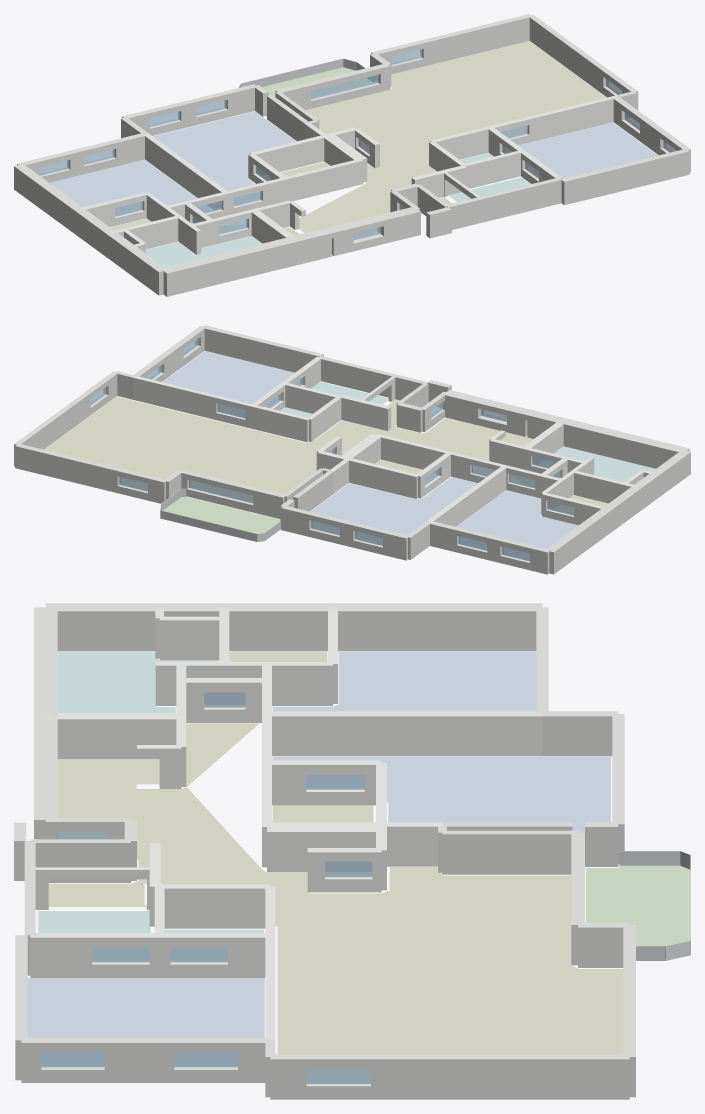
Rendered from Screenshot 2026-10-06 123716_3d.glb.
3 views of the same model, one above another, from view 1: azimuth 30°, elevation 25°; view 2: azimuth 150°, elevation 25°; view 3: azimuth 270°, elevation 25° (orthographic). The views are drawn at different scales.
Parts seen in each view (by area): view 1: floor_R2_storage_161, floor_R3_bedroom_162, floor_R8_bedroom_167, wall_W27_60, floor_R4_bedroom_163, wall_W32_69, wall_W1_3, wall_W11_35, wall_W64_129, wall_W31_68, wall_W45_87, wall_W16_46 (+35 smaller); view 2: floor_R2_storage_161, floor_R3_bedroom_162, floor_R8_bedroom_167, floor_R4_bedroom_163, wall_W27_60, wall_W32_69, wall_W1_3, wall_W11_35, floor_R1_balcony_160, wall_W34_71, wall_W45_87, wall_W6_24 (+42 smaller); view 3: floor_R2_storage_161, floor_R3_bedroom_162, floor_R8_bedroom_167, wall_W45_87, floor_R4_bedroom_163, wall_W64_129, wall_W34_71, floor_R1_balcony_160, floor_R11_bathroom_170, wall_W55_103, wall_W46_88, wall_W37_74 (+61 smaller).
Part boxes in pixels (bbox=[...]): floor_R2_storage_161: bbox=[219, 41, 606, 236]; floor_R3_bedroom_162: bbox=[153, 111, 295, 204]; floor_R8_bedroom_167: bbox=[505, 122, 657, 178]; wall_W27_60: bbox=[160, 237, 296, 296]; floor_R4_bedroom_163: bbox=[49, 159, 212, 214]; wall_W32_69: bbox=[561, 149, 689, 205]; wall_W1_3: bbox=[420, 14, 531, 66]; wall_W11_35: bbox=[527, 96, 615, 142]; wall_W64_129: bbox=[528, 14, 608, 94]; wall_W31_68: bbox=[479, 177, 561, 222]; wall_W45_87: bbox=[143, 133, 228, 209]; wall_W16_46: bbox=[283, 160, 362, 201]; floor_R2_storage_161: bbox=[44, 396, 534, 500]; floor_R3_bedroom_162: bbox=[310, 477, 477, 543]; floor_R8_bedroom_167: bbox=[163, 351, 299, 416]; floor_R4_bedroom_163: bbox=[457, 490, 577, 559]; wall_W27_60: bbox=[560, 418, 689, 468]; wall_W32_69: bbox=[202, 325, 323, 372]; wall_W1_3: bbox=[15, 444, 120, 492]; wall_W11_35: bbox=[133, 376, 218, 419]; floor_R1_balcony_160: bbox=[163, 496, 280, 533]; wall_W34_71: bbox=[547, 508, 611, 574]; wall_W45_87: bbox=[426, 466, 506, 526]; wall_W6_24: bbox=[347, 458, 418, 498]; floor_R2_storage_161: bbox=[48, 723, 623, 1081]; floor_R3_bedroom_162: bbox=[272, 757, 610, 832]; floor_R8_bedroom_167: bbox=[27, 978, 264, 1064]; wall_W45_87: bbox=[267, 711, 542, 756]; floor_R4_bedroom_163: bbox=[272, 652, 536, 711]; wall_W64_129: bbox=[371, 1054, 629, 1099]; wall_W34_71: bbox=[333, 603, 542, 651]; floor_R1_balcony_160: bbox=[586, 865, 690, 945]; floor_R11_bathroom_170: bbox=[57, 652, 217, 712]; wall_W55_103: bbox=[442, 830, 577, 874]; wall_W46_88: bbox=[46, 713, 181, 759]; wall_W37_74: bbox=[45, 603, 159, 651].
Size of the model in its own units: 67.03 by 2.75 by 42.06.
